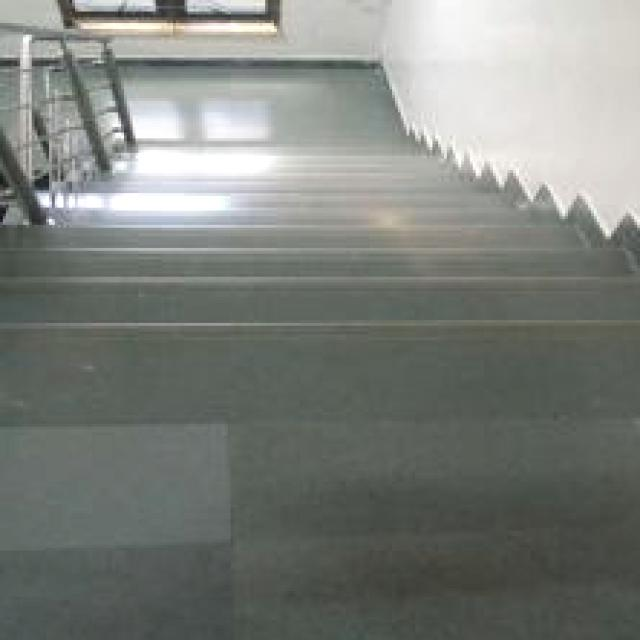downstair: (59, 165, 609, 373)
